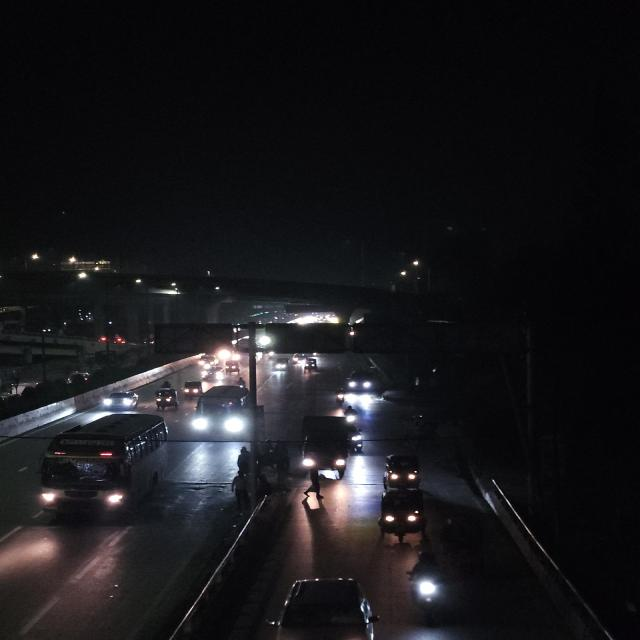bus: (32, 409, 173, 524), (193, 392, 247, 441)
car: (267, 573, 383, 640), (97, 387, 144, 412), (341, 370, 377, 397)
cng: (376, 486, 432, 545), (381, 451, 425, 490), (152, 386, 182, 412), (182, 380, 204, 400), (272, 358, 294, 372), (224, 359, 241, 376), (300, 358, 317, 373)
motorcycle: (404, 550, 450, 619), (333, 387, 348, 407)
pedestrian: (298, 463, 326, 503), (224, 473, 252, 508), (231, 449, 255, 478)
truck: (298, 413, 350, 481)
